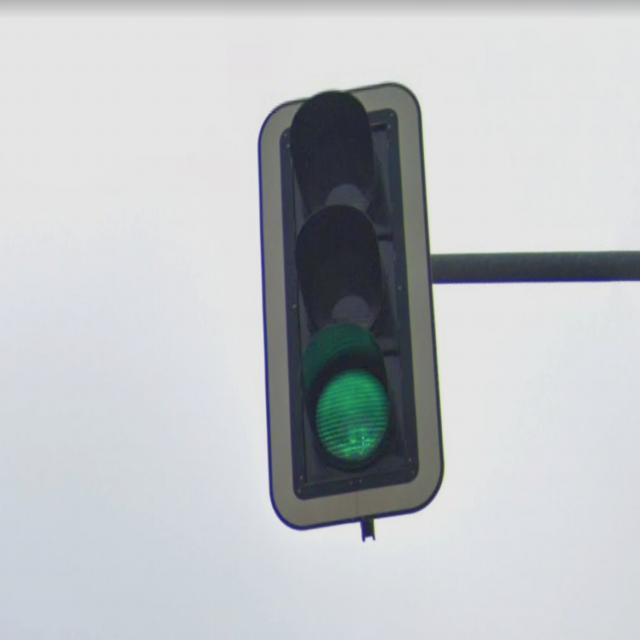green_light: (258, 81, 443, 531)
